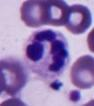N: (21, 29, 70, 81)
